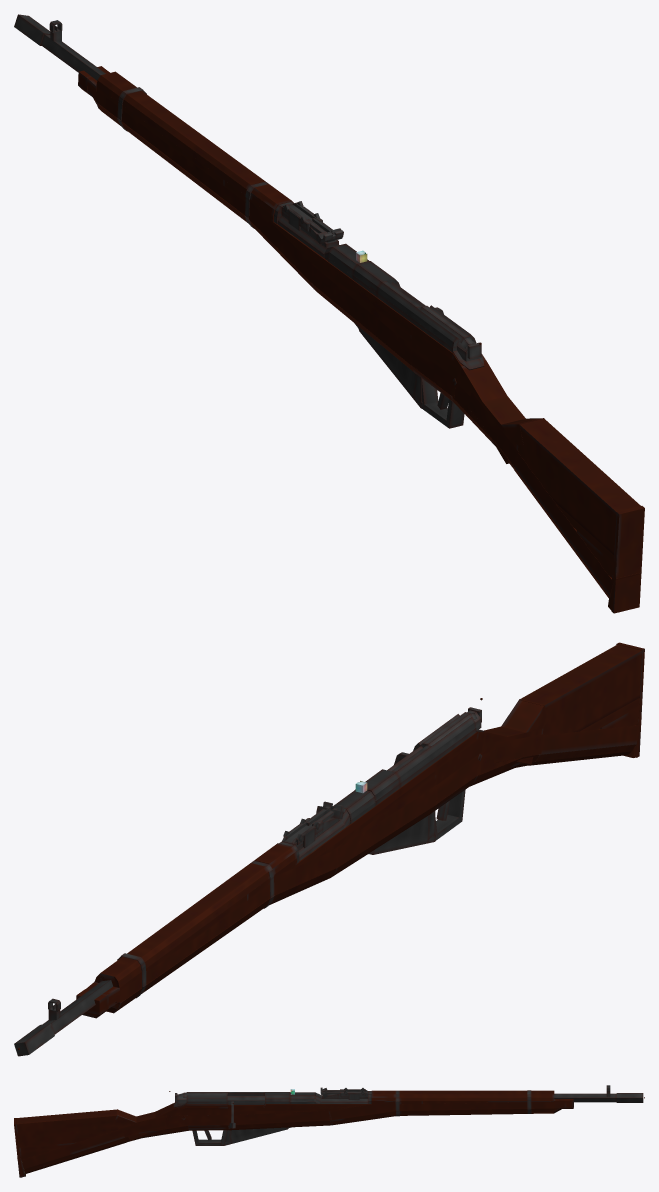
The model's file is a7_mosin.geo.fbx.
The picture shows the model from 3 angles, top to bottom: view 1: azimuth 30°, elevation 25°; view 2: azimuth 150°, elevation 25°; view 3: azimuth 270°, elevation 25°; orthographic projection. The views are drawn at different scales.
Parts seen in each view (by area): view 1: gun, back, bone11, bone3, bone9, bone, sight, bone5, bone7; view 2: gun, back, bone9, bone11, bone3, bone, sight, bone5, bone7, bone6, bolt2; view 3: gun, back, bone11, bone9, bone3, bone, bone5, bone6, bone7, sight, bolt, bolt2 (+1 smaller).
Boxes of the visible parts, x1,y1,x2,y2 form: gun: (14, 14, 485, 428); back: (456, 360, 644, 613); bone11: (96, 90, 247, 222); bone3: (311, 266, 415, 373); bone9: (511, 453, 613, 597); bone: (249, 201, 317, 292); sight: (281, 201, 343, 247); bone5: (410, 346, 455, 401); bone7: (468, 392, 518, 468); gun: (14, 714, 485, 1056); back: (481, 642, 644, 764); bone9: (528, 725, 639, 765); bone11: (106, 884, 269, 1012); bone3: (332, 785, 436, 876); bone: (269, 848, 337, 905); sight: (282, 801, 343, 849); bone5: (432, 754, 480, 812); bone7: (494, 734, 543, 767); bone6: (470, 746, 523, 786); bolt2: (420, 707, 481, 747); gun: (173, 1085, 643, 1145); back: (14, 1102, 181, 1177); bone11: (399, 1101, 554, 1115); bone9: (21, 1129, 126, 1173); bone3: (228, 1110, 331, 1130); bone: (328, 1101, 395, 1125); bone5: (183, 1115, 228, 1130); bone6: (138, 1114, 188, 1138); bone7: (118, 1116, 167, 1141); sight: (320, 1087, 368, 1099); bolt: (227, 1100, 264, 1128); bolt2: (175, 1092, 227, 1104).
Size of the model in its own units: 42.06 by 139 by 902.
Materials: 1 (1 with a texture image).
